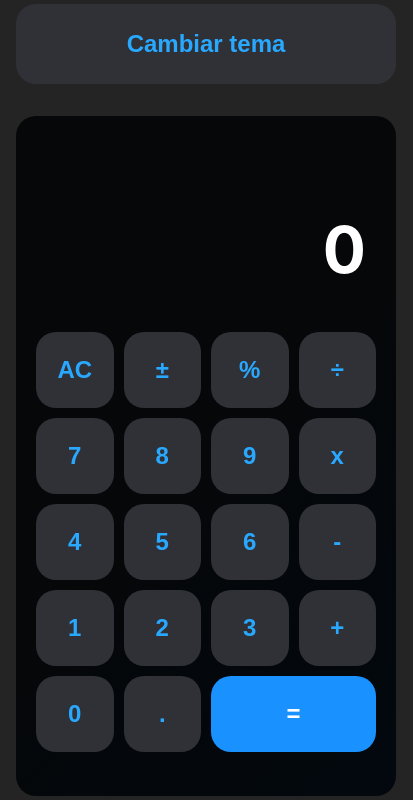
Componente Calculator › Realiza la suma correctamente
Click the button "1": (75, 628) [36,590,114,666]
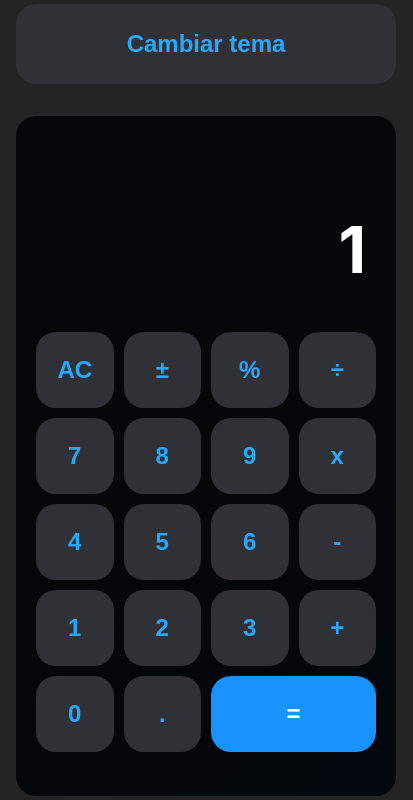
Click the button "+": (337, 628) [298,590,376,666]
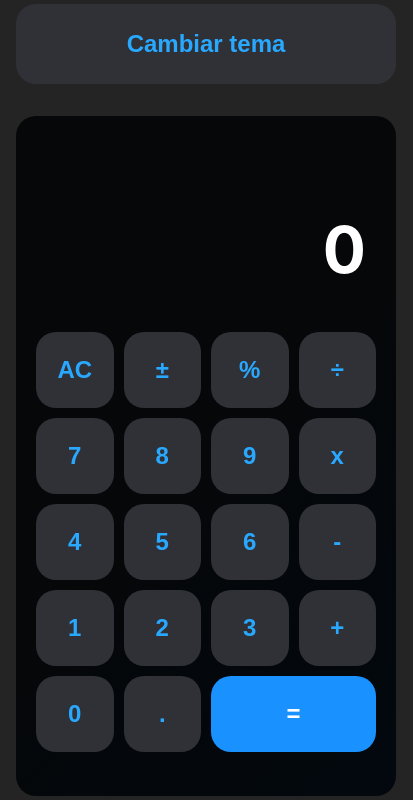
Click the button "2": (162, 628) [124,590,201,666]
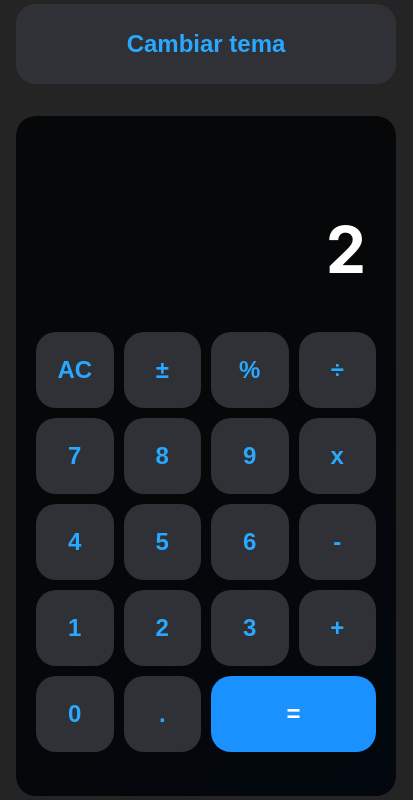
Click the button "=": (294, 714) [211,676,376,752]
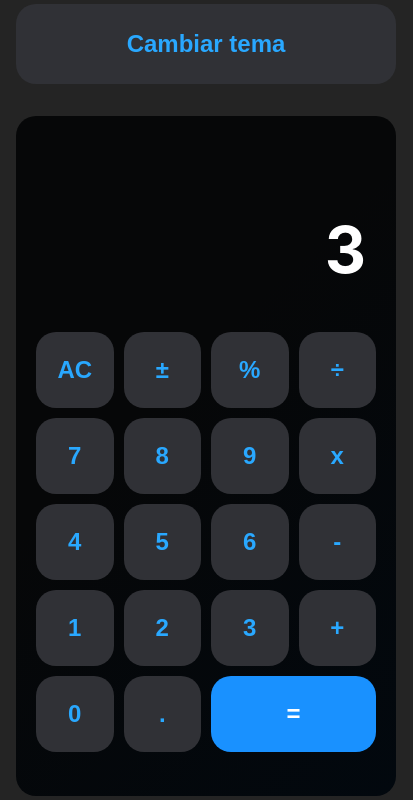
Result: the text "0" reads "3" at [325,211,366,288]
